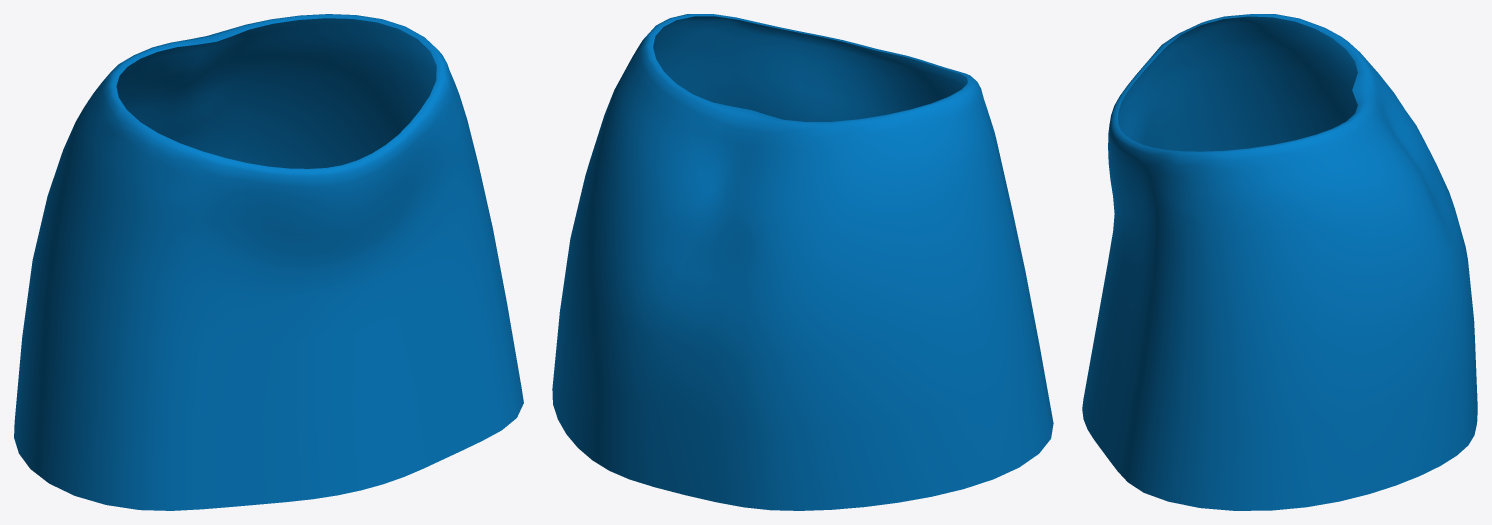
3 renders of one model, left to right at view 1: azimuth 30°, elevation 25°; view 2: azimuth 150°, elevation 25°; view 3: azimuth 270°, elevation 25°, orthographic. The views are drawn at different scales.
Parts seen in each view (by area): view 1: cgirl_Skirt_2; view 2: cgirl_Skirt_2; view 3: cgirl_Skirt_2.
Boxes of the visible parts, x1,y1,x2,y2 form: cgirl_Skirt_2: [14, 14, 523, 510]; cgirl_Skirt_2: [552, 14, 1053, 510]; cgirl_Skirt_2: [1082, 14, 1477, 510].
Size of the model in its own units: 3736 by 2747 by 2987.
